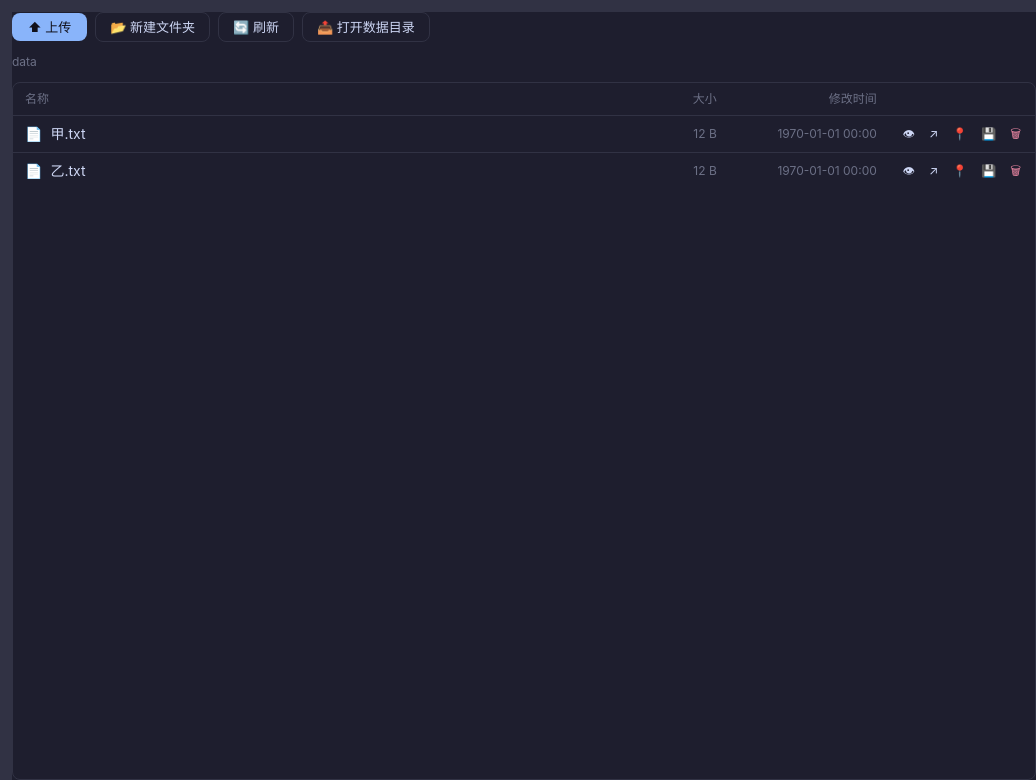
Test: §332 F1 四颗「在系统里打开」：失败回的是 resolve 的 {ok:false} ⇒ 必须各说一句 › 行内 📍 那颗：失败有一句
Expected: the text "甲.txt" is shown, [50,124,86,144]
Click the button titled "所在位置" in the row of "甲.txt" at {"x": 960, "y": 134}, box [946,122,973,146]
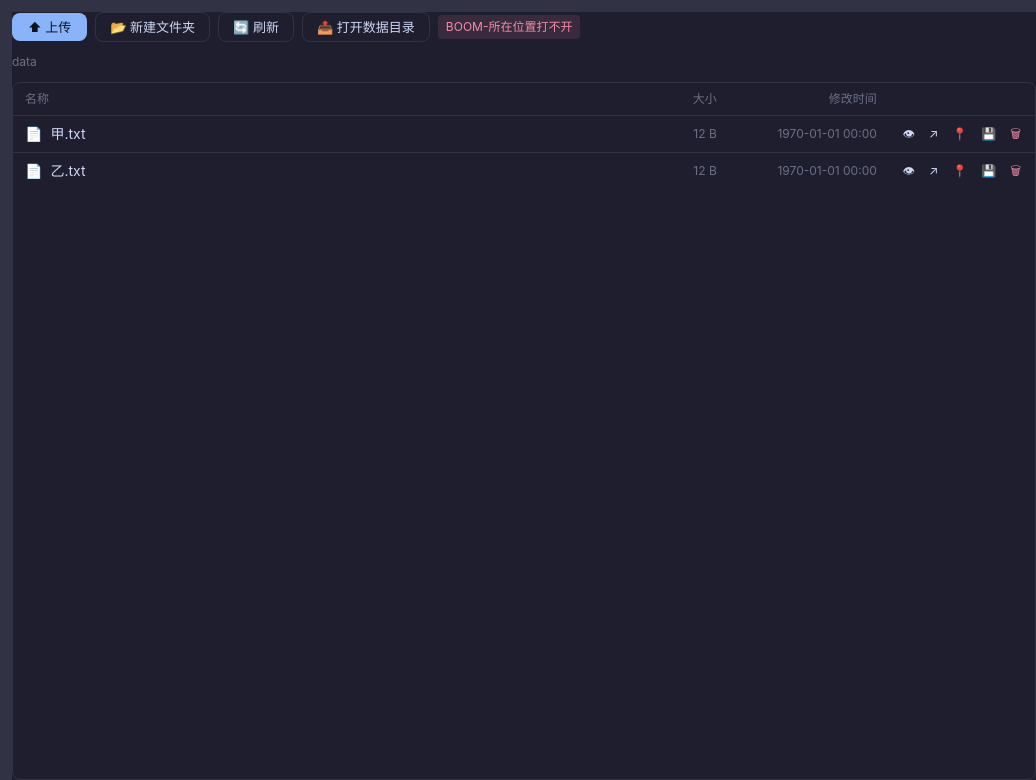
Result: the text "BOOM-所在位置打不开" is shown at [438,15,580,39]
